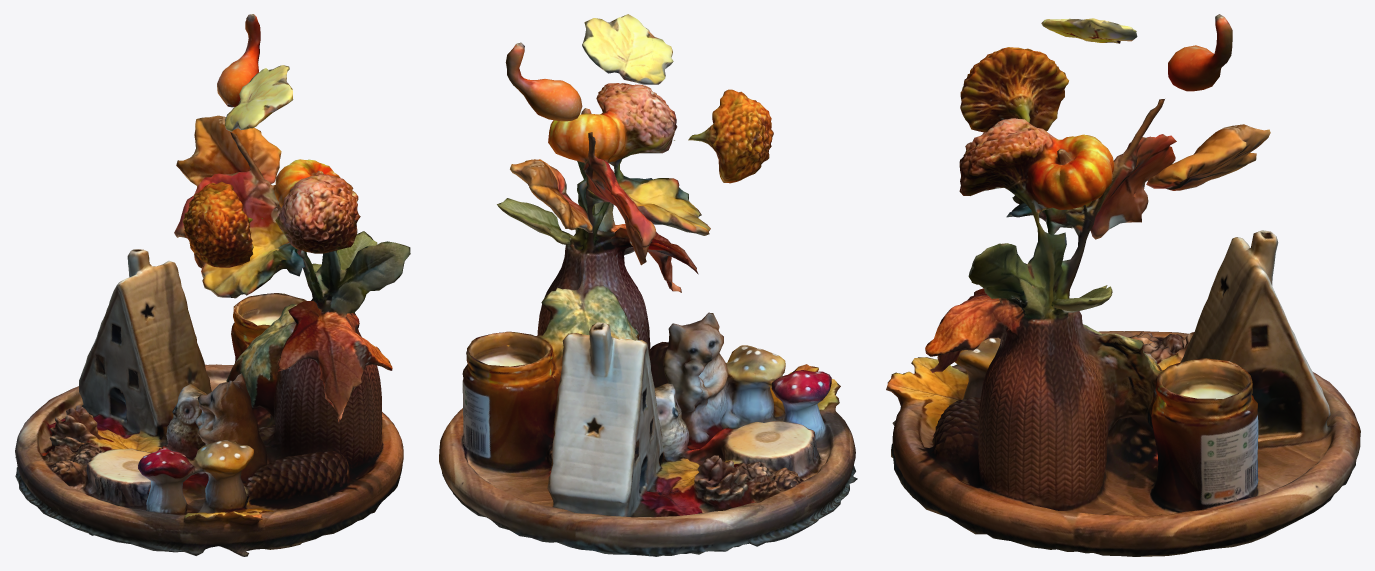
Rendered from deco_automne.glb.
3 renders of one model, left to right at view 1: azimuth 30°, elevation 25°; view 2: azimuth 150°, elevation 25°; view 3: azimuth 270°, elevation 25°, orthographic. The views are drawn at different scales.
Visible parts, largest first — view 1: ObjectCapture; view 2: ObjectCapture; view 3: ObjectCapture.
Boxes of the visible parts, left/top/right/bottom form: ObjectCapture: left=15, top=14, right=410, bottom=556; ObjectCapture: left=439, top=14, right=857, bottom=556; ObjectCapture: left=886, top=14, right=1360, bottom=556.
Bounding box in the file's own units: 0.3431 × 0.3995 × 0.3458.
1 material, 1 textured.
